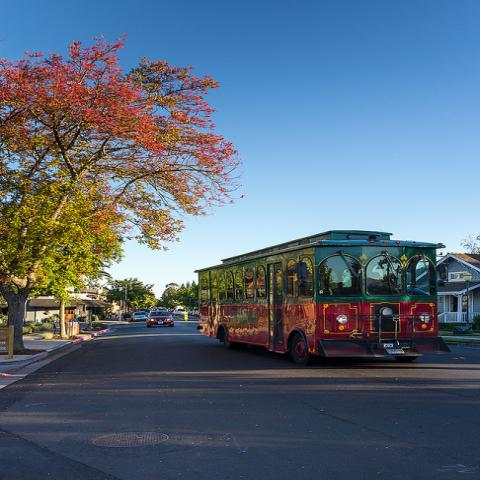bus: (191, 229, 453, 365)
car: (146, 311, 176, 327), (131, 311, 147, 321), (175, 309, 186, 316), (192, 311, 199, 316)
